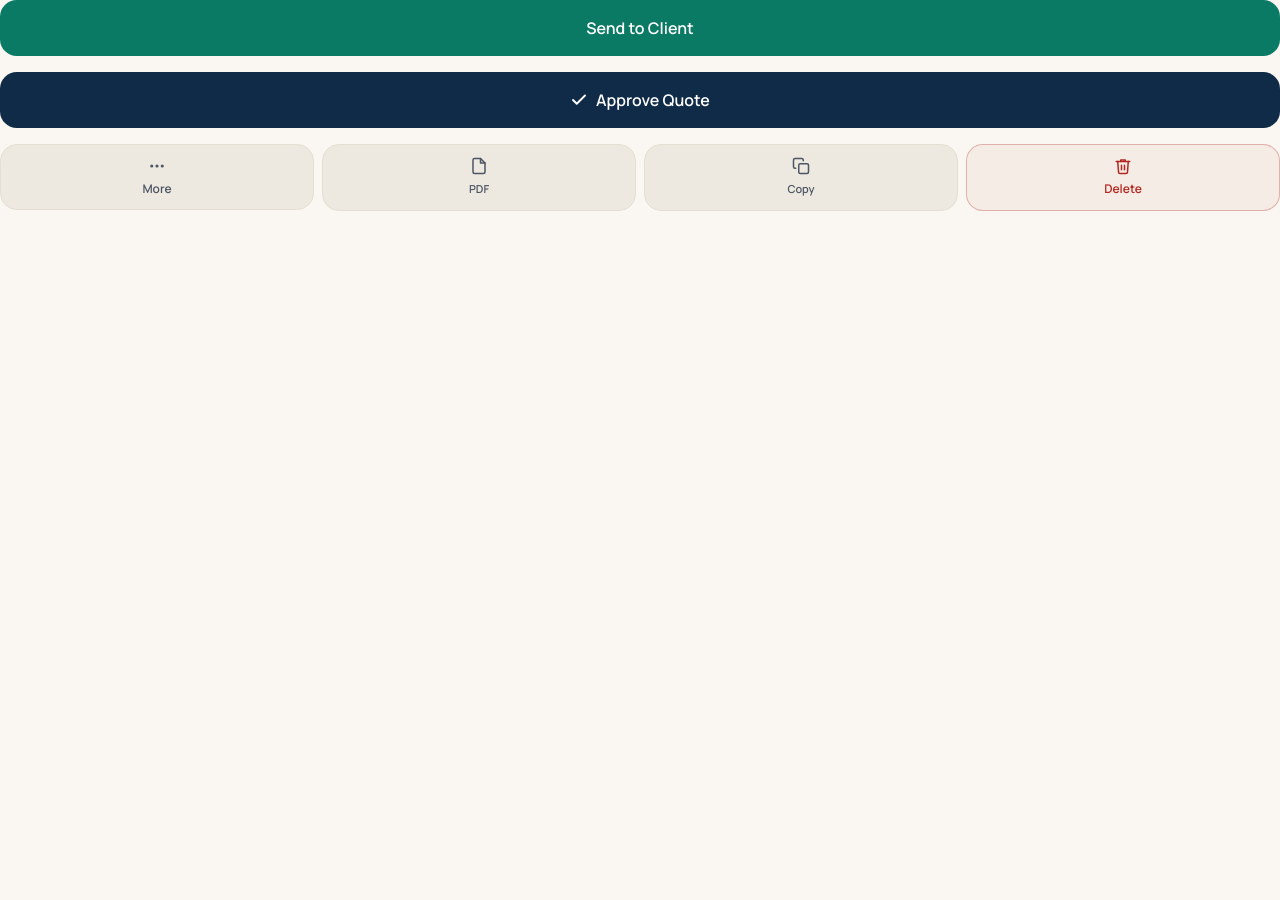
Test: QuoteActions › opens an accessible delete dialog and closes it with Escape
This screenshot has width=1280, height=900.
Click the button "Delete". click: [1123, 177]
box: [966, 144, 1279, 210]
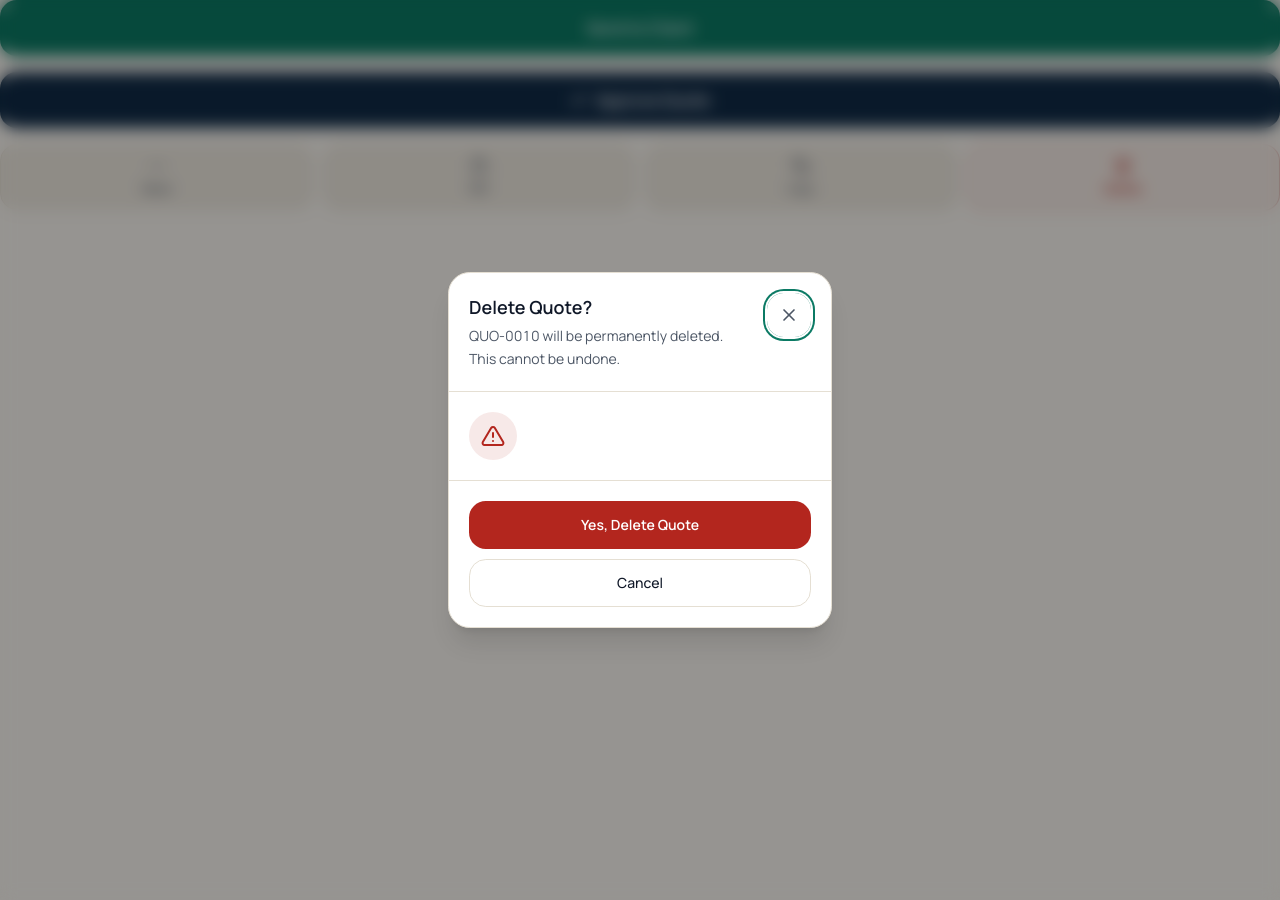
Check: the dialog "Delete Quote?" is shown, box [448, 272, 832, 628]
Press Escape
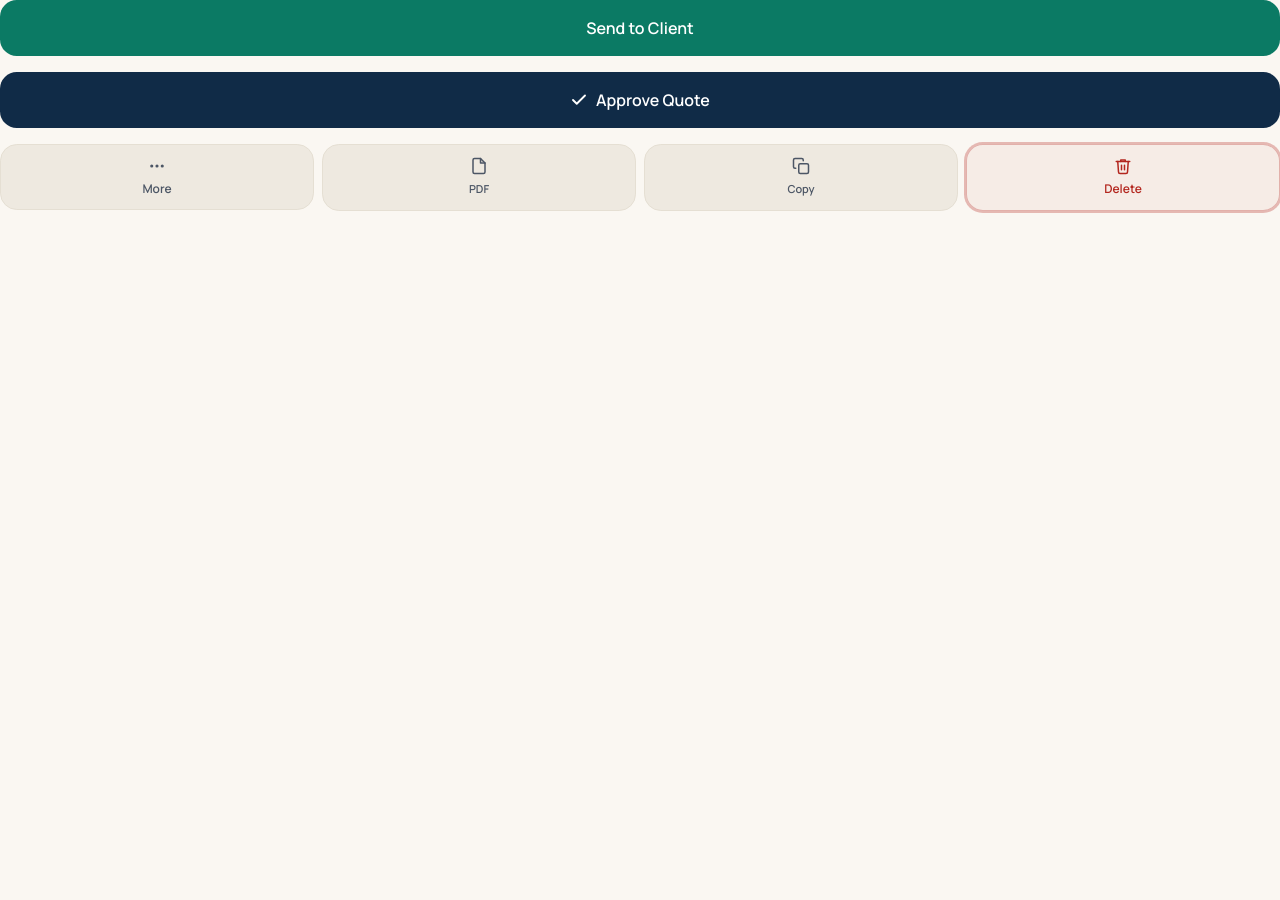
Check: the heading "Delete Quote?" is gone
